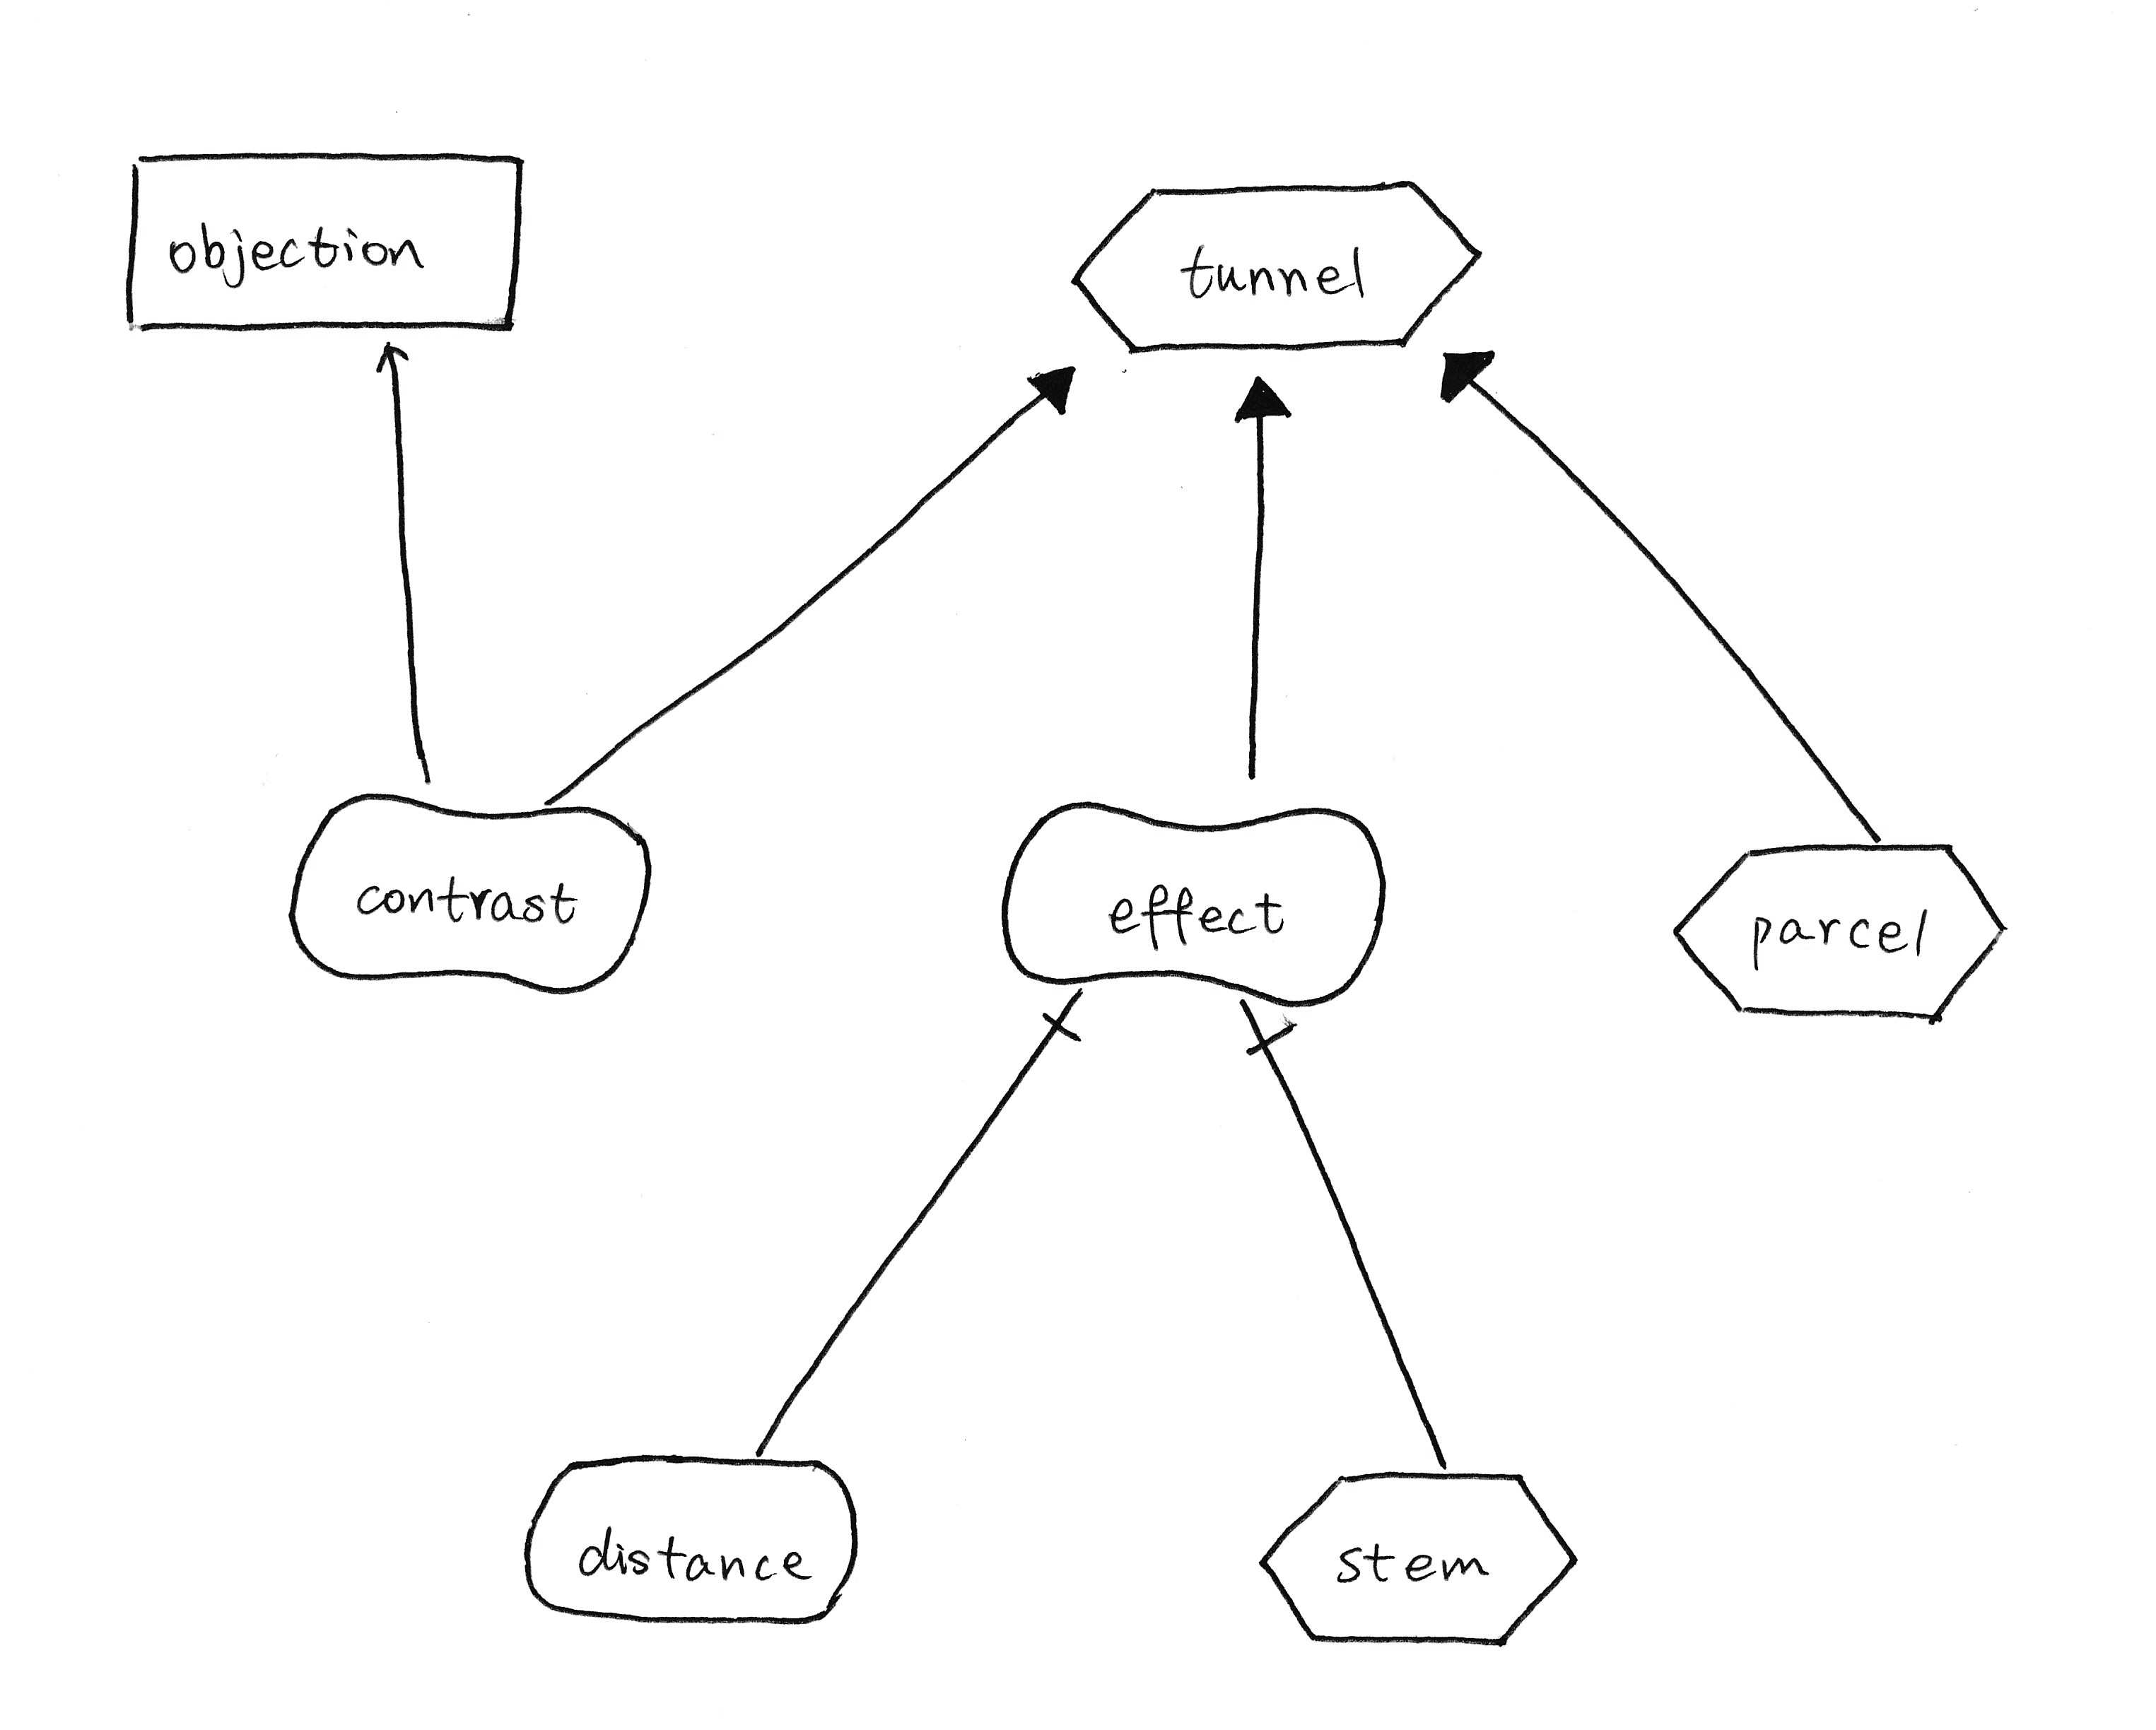and: (1028, 967, 1104, 1072), (1220, 976, 1301, 1070)
arrow: (358, 325, 424, 390)
goal: (501, 1432, 876, 1649)
or: (1217, 358, 1303, 450), (1411, 334, 1511, 410), (1021, 346, 1093, 422)
quality: (976, 784, 1406, 1022), (267, 777, 675, 1006)
resource: (104, 131, 553, 358)
task: (1056, 162, 1497, 376), (1656, 828, 2025, 1042), (1250, 1455, 1600, 1663)
